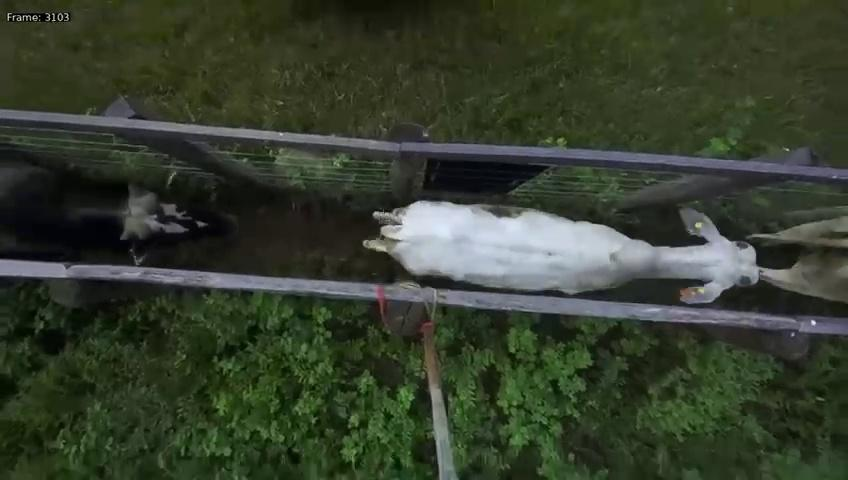cattle: (356, 193, 765, 312)
